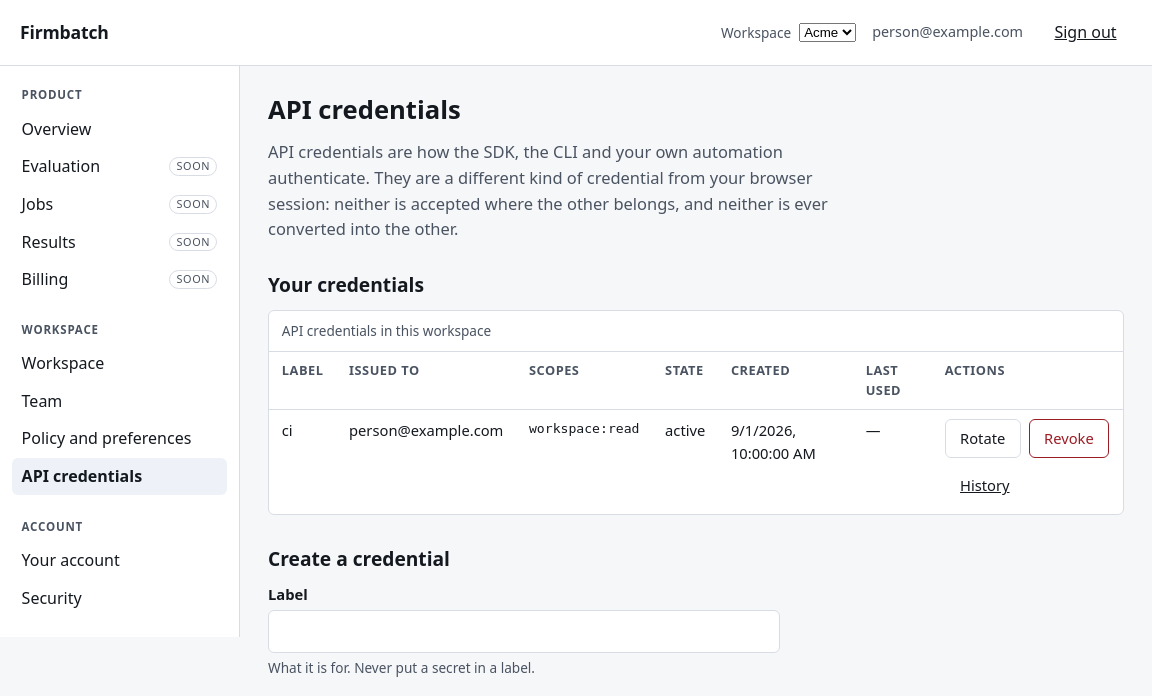
Test: rotating › shows the successor once and says the old key stopped
expect the heading "API credentials" is shown: met, box [268,92,461,127]
Click the button "Rotate".
click(983, 439)  # box [945,419,1021,458]
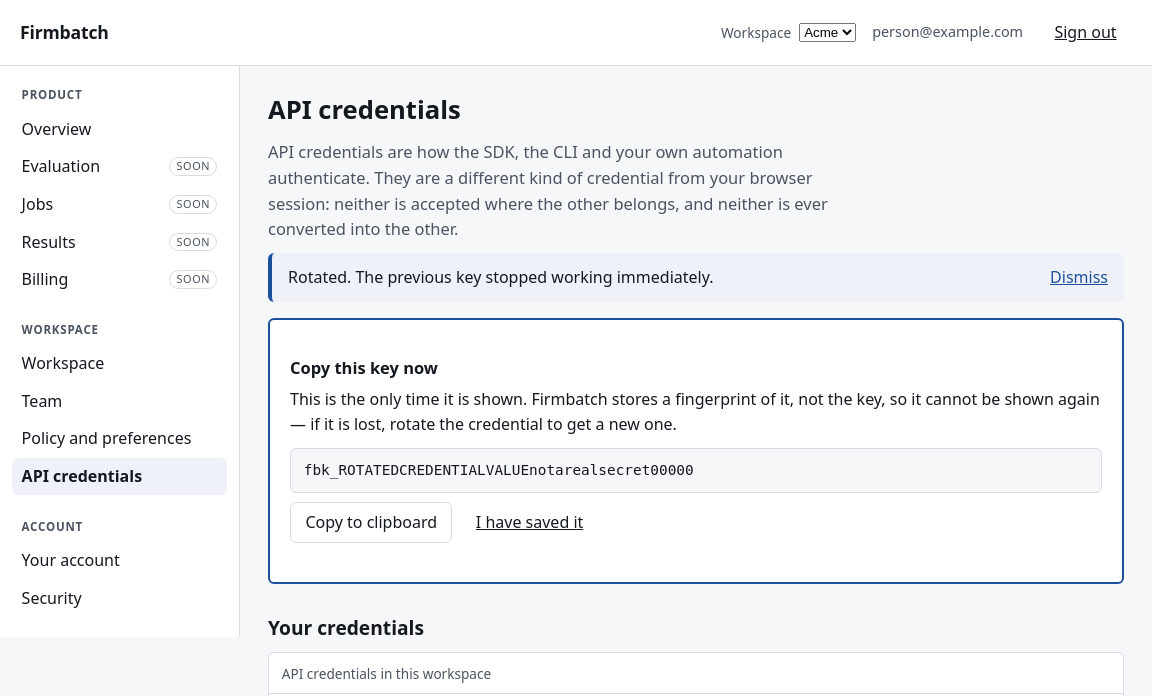
expect the text "fbk_ROTATEDCREDENTIALVALUEnotarealsecret00000" is shown: met, box [290,448,1102,493]
expect the text "Rotated. The previous key stopped working immediately." is shown: met, box [288,265,714,290]
